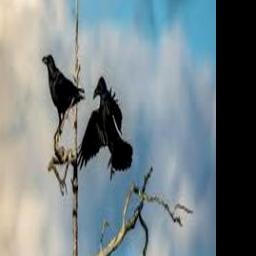Crow: (77, 76, 132, 178), (41, 55, 84, 142)
